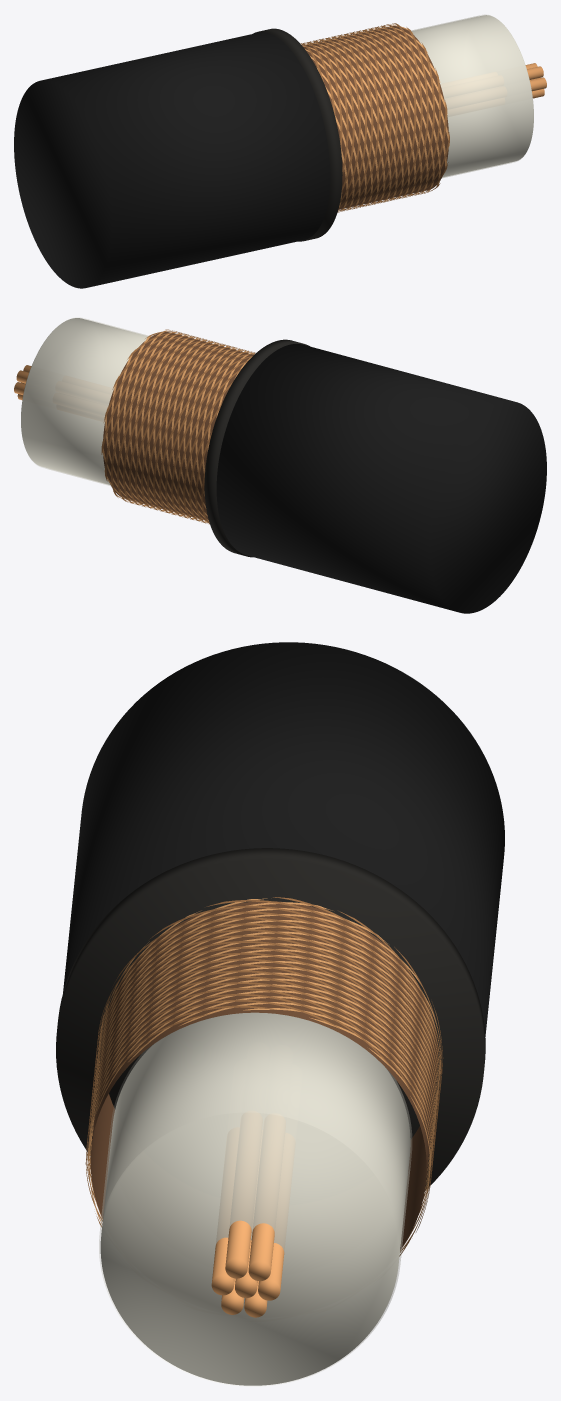
The picture shows the model from 3 angles, top to bottom: view 1: azimuth 30°, elevation 25°; view 2: azimuth 150°, elevation 25°; view 3: azimuth 270°, elevation 25°; orthographic projection. The views are drawn at different scales.
Parts seen in each view (by area): view 1: matte black pvc jacket body, smooth dielectric skin, gas injected foam dielectric, braid dark diamond recess, jacket cut lip, braid left hand woven carrier 12, braid left hand woven carrier 13, braid left hand woven carrier 11, braid left hand woven carrier 14, braid left hand woven carrier 10, braid left hand woven carrier 15, braid left hand woven carrier 08 (+25 smaller); view 2: matte black pvc jacket body, smooth dielectric skin, gas injected foam dielectric, braid dark diamond recess, jacket cut lip, braid left hand woven carrier 07, braid left hand woven carrier 06, braid left hand woven carrier 08, braid left hand woven carrier 05, braid left hand woven carrier 09, braid left hand woven carrier 10, braid left hand woven carrier 12 (+22 smaller); view 3: gas injected foam dielectric, matte black pvc jacket body, jacket cut lip, smooth dielectric skin, braid dark diamond recess, braid left hand woven carrier 09, braid left hand woven carrier 08, braid left hand woven carrier 10, braid left hand woven carrier 07, braid left hand woven carrier 06, braid left hand woven carrier 11, 7 strand center conductor 04 (+23 smaller).
Part boxes in pixels (x1,y1,x2,y2): matte black pvc jacket body: [14, 32, 330, 288]; smooth dielectric skin: [411, 14, 533, 178]; gas injected foam dielectric: [412, 15, 533, 177]; braid dark diamond recess: [303, 26, 448, 209]; jacket cut lip: [253, 28, 342, 241]; braid left hand woven carrier 12: [308, 40, 440, 200]; braid left hand woven carrier 13: [314, 39, 447, 198]; braid left hand woven carrier 11: [302, 42, 434, 201]; braid left hand woven carrier 14: [320, 38, 449, 197]; braid left hand woven carrier 10: [300, 27, 428, 202]; braid left hand woven carrier 15: [326, 36, 448, 202]; braid left hand woven carrier 08: [363, 24, 416, 205]; matte black pvc jacket body: [216, 344, 546, 613]; smooth dielectric skin: [21, 317, 148, 485]; gas injected foam dielectric: [21, 318, 147, 484]; braid dark diamond recess: [103, 332, 253, 521]; jacket cut lip: [204, 339, 309, 557]; braid left hand woven carrier 07: [103, 336, 222, 522]; braid left hand woven carrier 06: [101, 337, 212, 524]; braid left hand woven carrier 08: [112, 334, 232, 520]; braid left hand woven carrier 05: [105, 339, 220, 523]; braid left hand woven carrier 09: [127, 332, 241, 519]; braid left hand woven carrier 10: [145, 331, 248, 517]; braid left hand woven carrier 12: [159, 353, 254, 514]; gas injected foam dielectric: [100, 1012, 410, 1385]; matte black pvc jacket body: [63, 642, 504, 1036]; jacket cut lip: [56, 848, 485, 1190]; smooth dielectric skin: [99, 1013, 411, 1386]; braid dark diamond recess: [90, 901, 438, 1249]; braid left hand woven carrier 09: [88, 905, 439, 1137]; braid left hand woven carrier 08: [89, 900, 440, 1140]; braid left hand woven carrier 10: [88, 911, 438, 1158]; braid left hand woven carrier 07: [90, 897, 440, 1139]; braid left hand woven carrier 06: [90, 911, 441, 1183]; braid left hand woven carrier 11: [87, 917, 438, 1170]; 7 strand center conductor 04: [225, 1220, 251, 1278].
Bounding box in the file's own units: 6.56 × 2.6 × 2.72.
